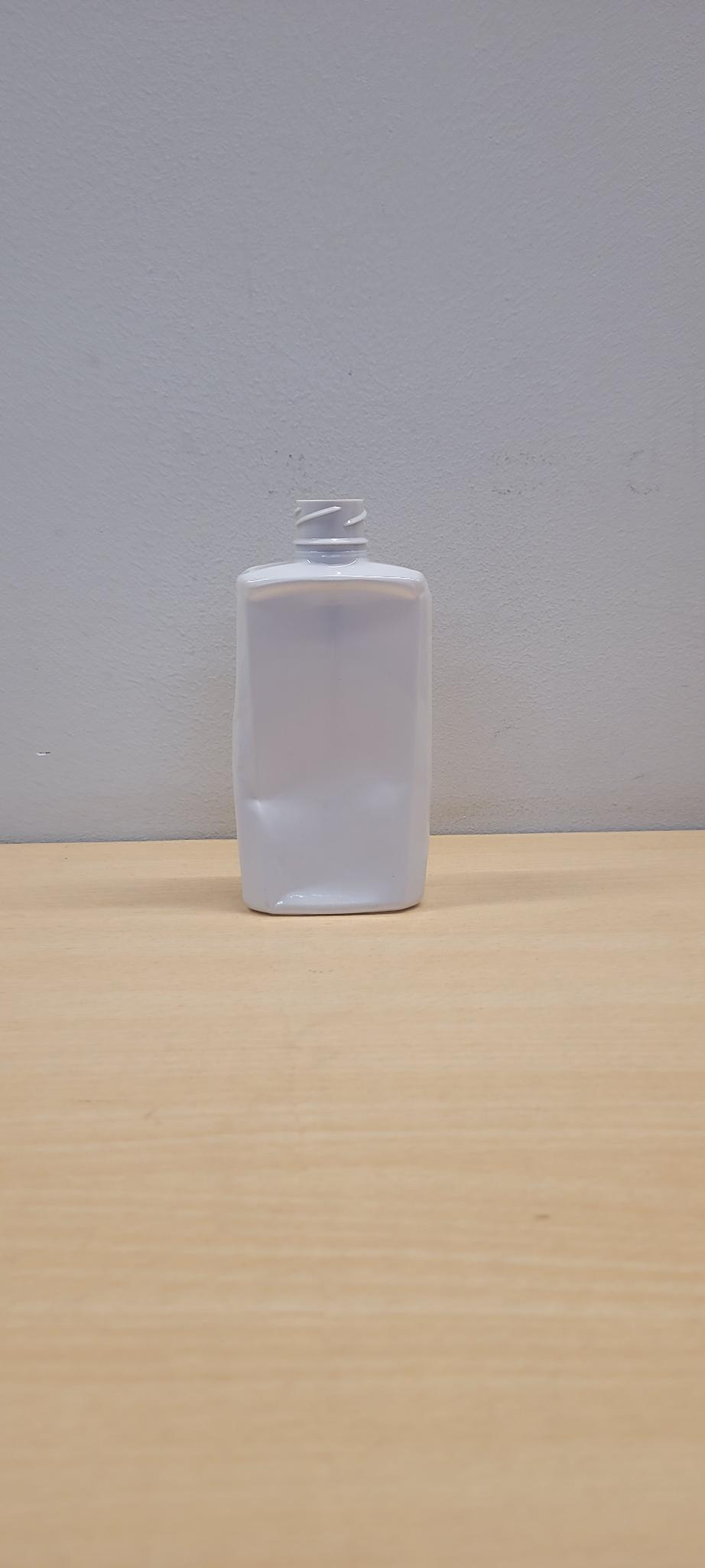bottle: (233, 498, 431, 915)
